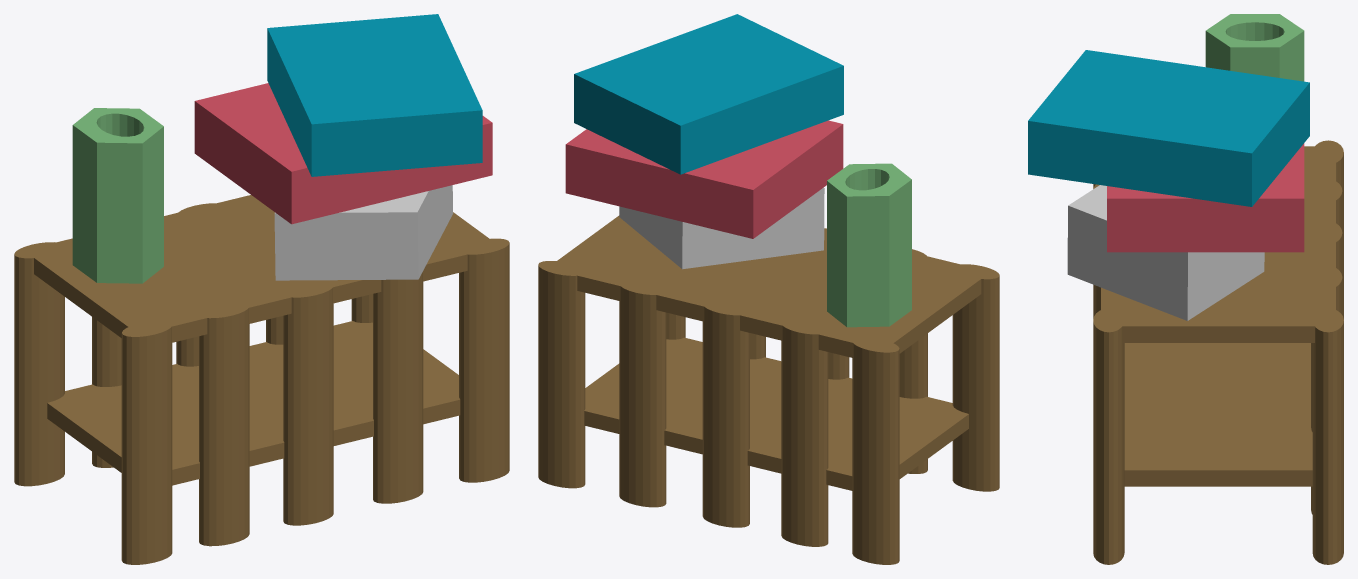
3 renders of one model, left to right at view 1: azimuth 30°, elevation 25°; view 2: azimuth 150°, elevation 25°; view 3: azimuth 270°, elevation 25°, orthographic. The views are drawn at different scales.
Visible parts, largest first — view 1: Mesh_Mesh_head_geo.001_lambert2SG.001; view 2: Mesh_Mesh_head_geo.001_lambert2SG.001; view 3: Mesh_Mesh_head_geo.001_lambert2SG.001.
Boxes of the visible parts, bbox=[...] form: Mesh_Mesh_head_geo.001_lambert2SG.001: bbox=[14, 14, 509, 564]; Mesh_Mesh_head_geo.001_lambert2SG.001: bbox=[538, 14, 999, 564]; Mesh_Mesh_head_geo.001_lambert2SG.001: bbox=[1028, 14, 1343, 564].
Bounding box in the file's own units: 23 × 23 × 16.
